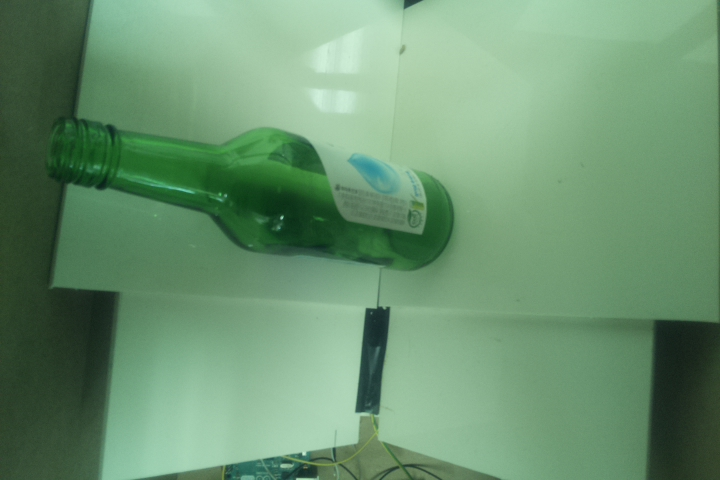soju: (43, 115, 455, 274)
